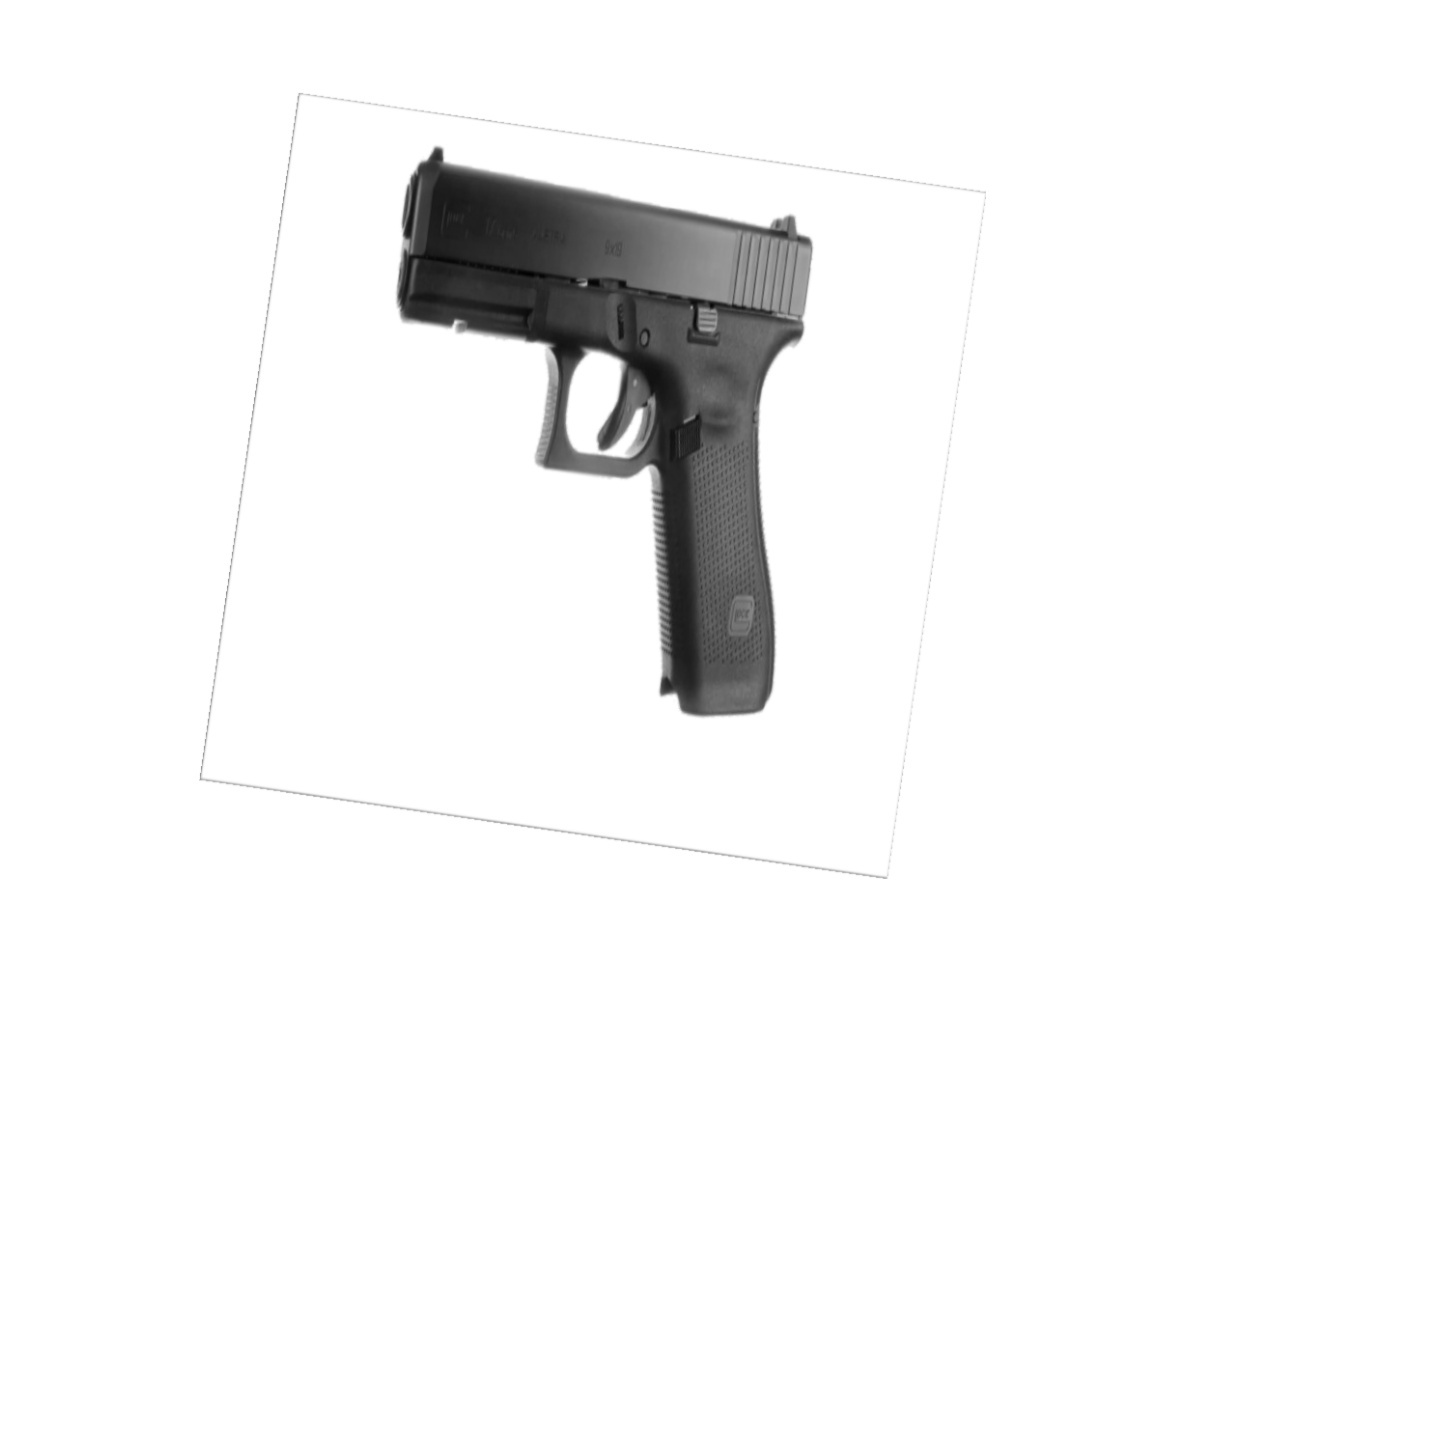gun: (381, 142, 815, 722)
